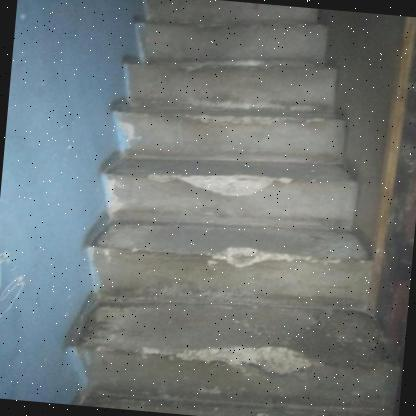stair: (84, 0, 399, 416)
